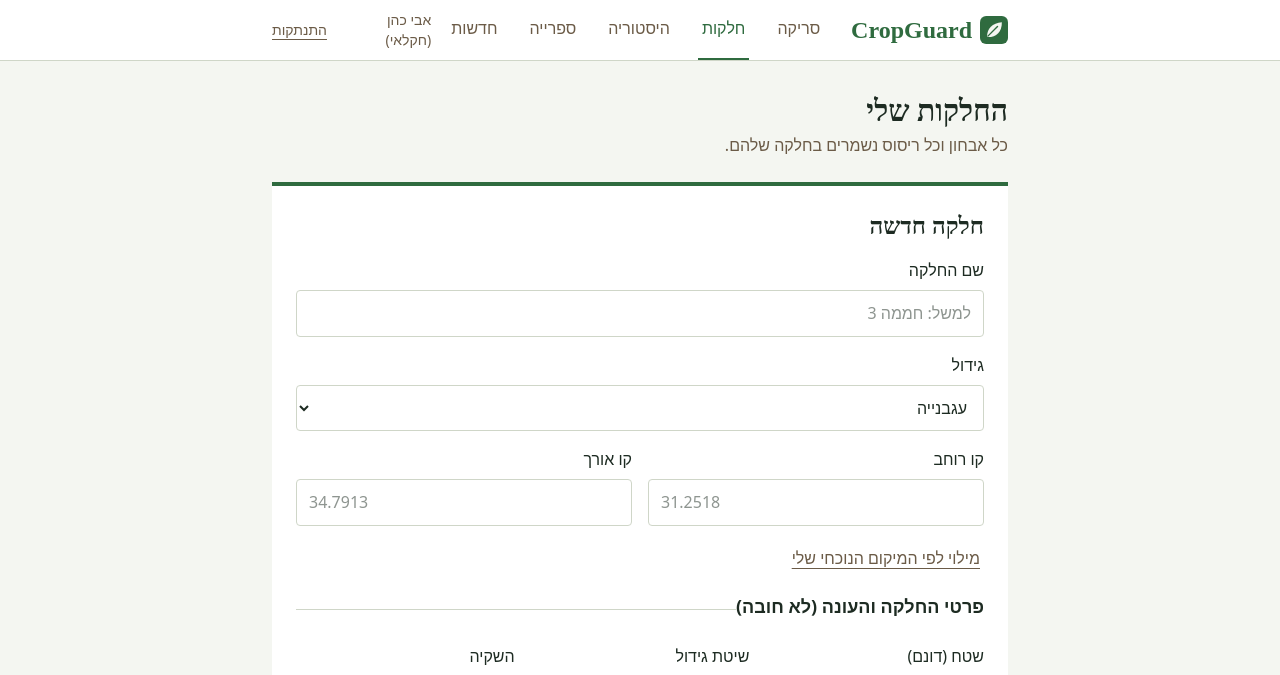
Test case: news page › is reachable from the navigation
What coordinates should you click on to do the following:
click the link "חדשות"
I would click on:
 (474, 28)
Its box is [451,17,498,39].
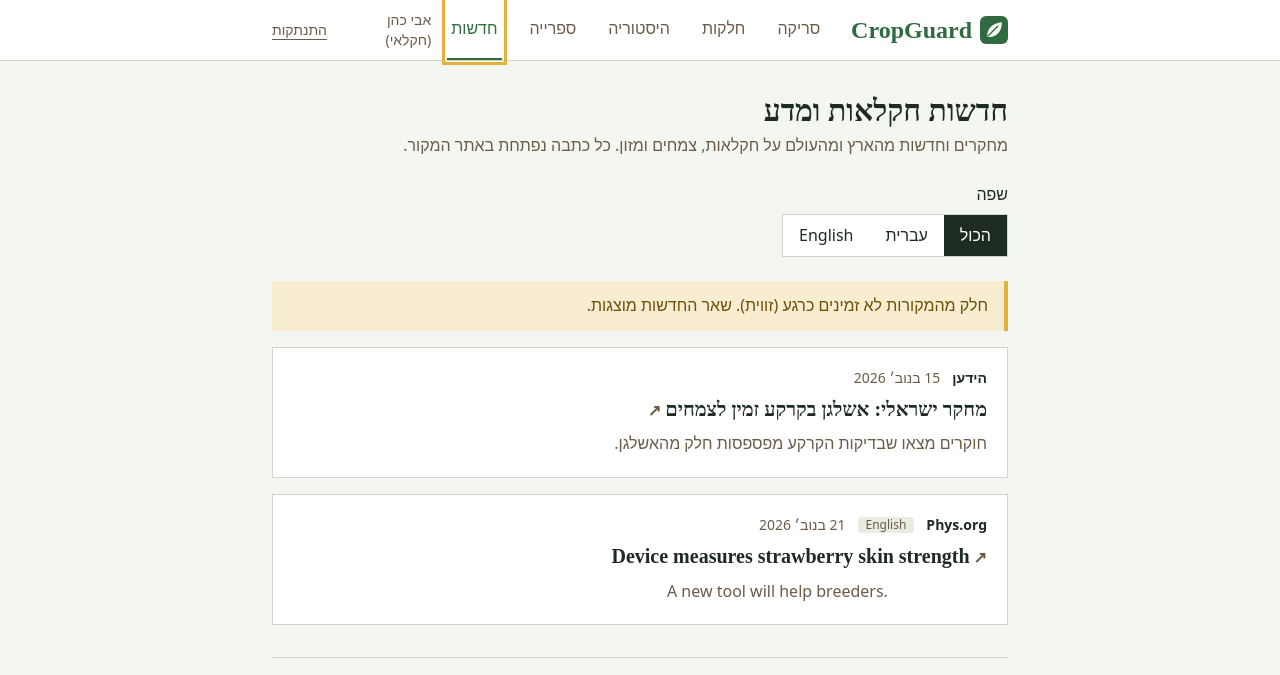
Now the heading "חדשות חקלאות ומדע" is shown, box [764,94,1008,127]
